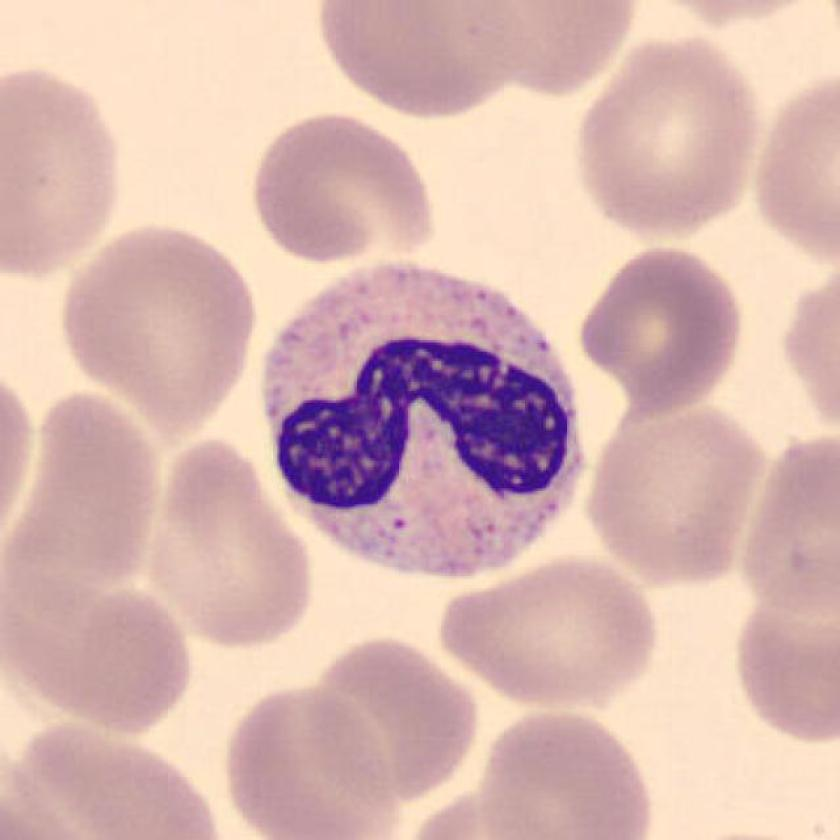neutrophil: (262, 258, 584, 572)
